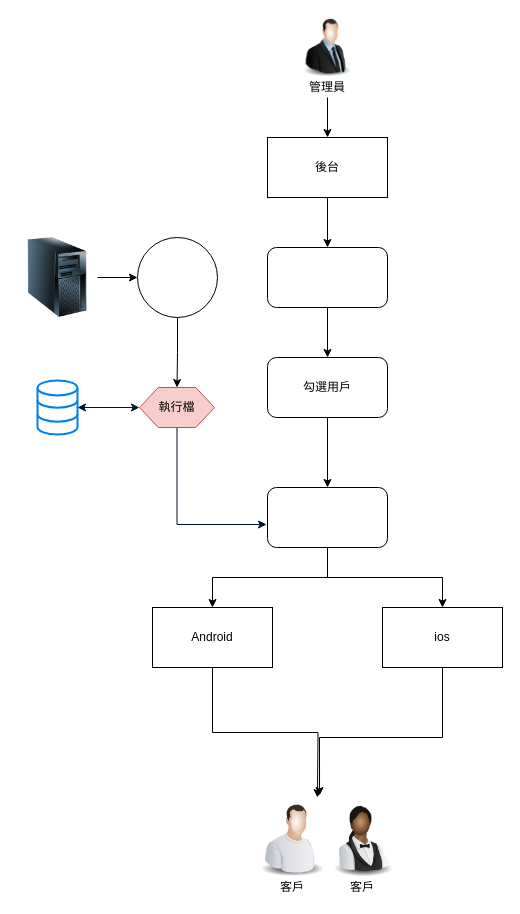
Image size: 520x914. Some labels were removed from this diagram. Each missing label, with the box of its shape:
排程: (136, 236, 218, 318)
推播模組: (266, 486, 388, 548)
輸入訊息: (266, 246, 388, 308)
